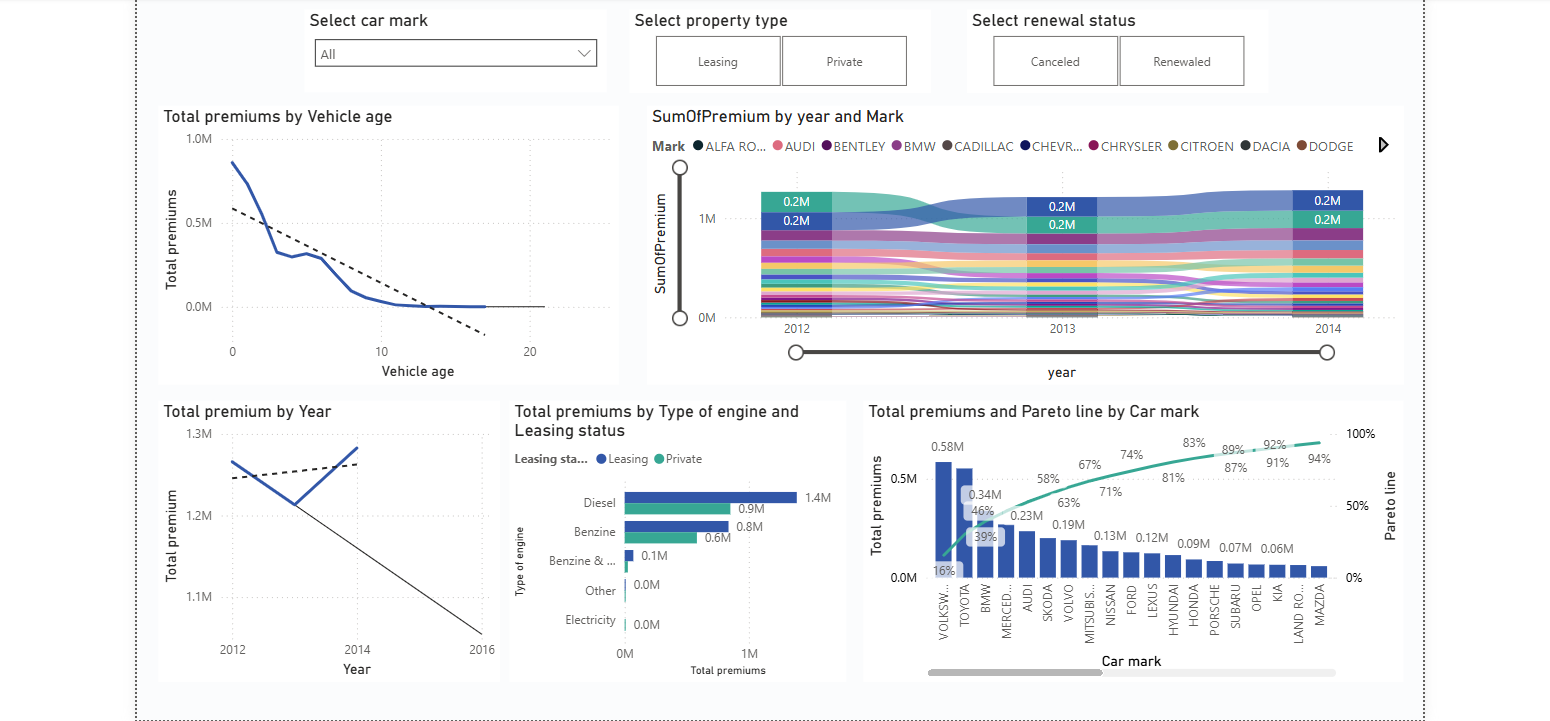

The dashboard page shown, as its layout file describes it:
{"tool":"powerbi","page":{"name":"Trends in sales","canvas":[1280,720],"ordinal":3},"visuals":[{"type":"ribbonChart","fields":{"Category":["policies.year"],"Y":["calculations.SumOfPremium"],"Series":["policies.Mark"]},"box":[507.5,108.8,752.5,277.5],"z":0},{"type":"lineChart","fields":{"Category":["policies.VehicleAge"],"Y":["calculations.SumOfPremium"]},"box":[21.2,108.8,458.8,277.5],"z":1000},{"type":"lineChart","fields":{"Y":["calculations.SumOfPremium"],"Category":["policies.year"]},"box":[21.2,401.2,340,280],"z":2000},{"type":"clusteredBarChart","fields":{"Category":["policies.EngineType"],"Y":["calculations.SumOfPremium"],"Series":["policies.LeasingStatus"]},"box":[371.2,401.2,335,280],"z":3000},{"type":"lineStackedColumnComboChart","fields":{"Category":["policies.Mark"],"Y":["calculations.SumOfPremium"],"Y2":["calculations.Cumulative Premium (%)"]},"box":[722.5,401.2,537.5,280],"z":4000},{"type":"slicer","title":"Select car mark","fields":{"Values":["policies.Mark"]},"box":[166.8,12.5,301,82.8],"z":5000},{"type":"slicer","title":"Select property type","fields":{"Values":["policies.LeasingStatus"]},"box":[490,12.2,300,83.3],"z":6000},{"type":"slicer","title":"Select renewal status","fields":{"Values":["policies.RenewalStatus"]},"box":[825.6,12.2,300,83.3],"z":7000}]}

Visuals, with their boxes on the page's 1280x720 design canvas (x1, y1, x2, y2). These are canvas units, not pixel positions in the 1550x721 screenshot, which may show the page scaled, cropped or inside an application window:
ribbonChart - policies.year x calculations.SumOfPremium: Rect(508, 109, 1260, 386)
lineChart - policies.VehicleAge x calculations.SumOfPremium: Rect(21, 109, 480, 386)
lineChart - calculations.SumOfPremium x policies.year: Rect(21, 401, 361, 681)
clusteredBarChart - policies.EngineType x calculations.SumOfPremium: Rect(371, 401, 706, 681)
lineStackedColumnComboChart - policies.Mark x calculations.SumOfPremium: Rect(722, 401, 1260, 681)
"Select car mark" slicer: Rect(167, 12, 468, 95)
"Select property type" slicer: Rect(490, 12, 790, 96)
"Select renewal status" slicer: Rect(826, 12, 1126, 96)
